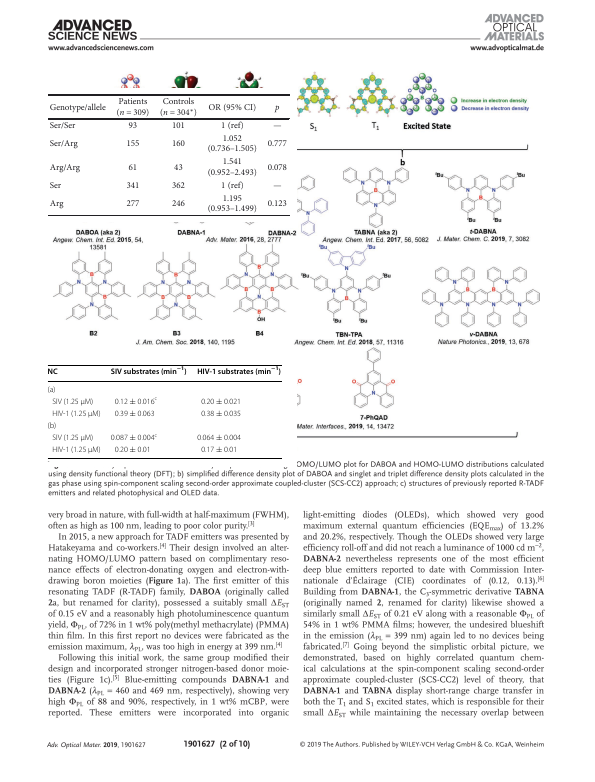borderless: (48, 93, 290, 216), (46, 363, 282, 458)
cell: (206, 134, 257, 155), (206, 157, 257, 178), (206, 194, 257, 215), (196, 366, 282, 376), (159, 97, 198, 118), (110, 366, 188, 376), (115, 97, 150, 118), (48, 102, 106, 113), (207, 102, 257, 113), (110, 432, 158, 443), (51, 409, 102, 419), (114, 396, 158, 407), (51, 446, 102, 455), (51, 397, 94, 407), (200, 397, 242, 407), (114, 409, 156, 419), (200, 409, 242, 419), (196, 434, 242, 443), (51, 434, 94, 443), (48, 162, 81, 173), (114, 446, 152, 455), (200, 446, 238, 455), (48, 139, 78, 149), (48, 121, 76, 131), (220, 121, 244, 131), (220, 181, 244, 191), (266, 162, 287, 173), (266, 199, 287, 210), (266, 139, 287, 149), (48, 199, 64, 210), (125, 199, 140, 210), (171, 199, 186, 210), (171, 121, 186, 131), (125, 139, 140, 149), (171, 139, 186, 149), (125, 181, 140, 191), (171, 181, 186, 191), (48, 181, 62, 191), (127, 162, 138, 173), (127, 121, 138, 131), (173, 162, 183, 173), (47, 367, 59, 376), (47, 385, 56, 395), (47, 422, 57, 431), (274, 104, 280, 113), (272, 125, 282, 129), (272, 185, 282, 189)
